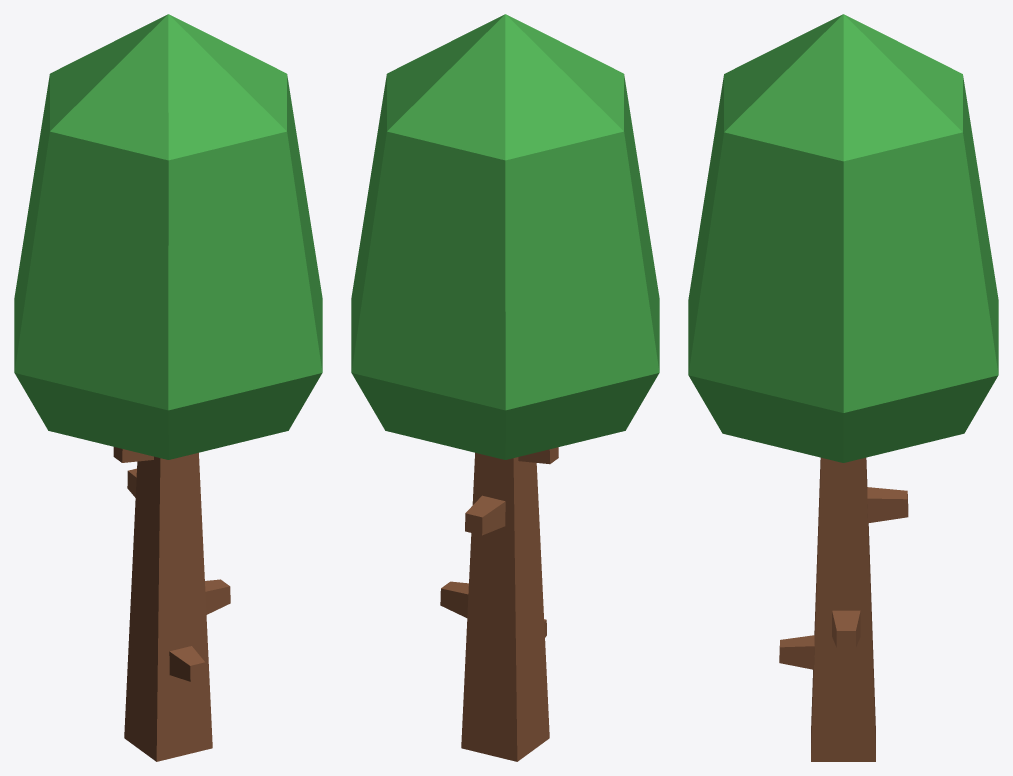
The model's file is tree_0.fbx.
3 views of the same model, side by side, from view 1: azimuth 30°, elevation 25°; view 2: azimuth 150°, elevation 25°; view 3: azimuth 270°, elevation 25° (orthographic).
Parts seen in each view (by area): view 1: tree_0; view 2: tree_0; view 3: tree_0.
Boxes of the visible parts, x1=… form: tree_0: x1=14, y1=14, x2=322, y2=761; tree_0: x1=351, y1=14, x2=659, y2=761; tree_0: x1=688, y1=14, x2=998, y2=761.
Size of the model in its own units: 0.755 by 1.71 by 0.6538.
1 material, 1 textured.
